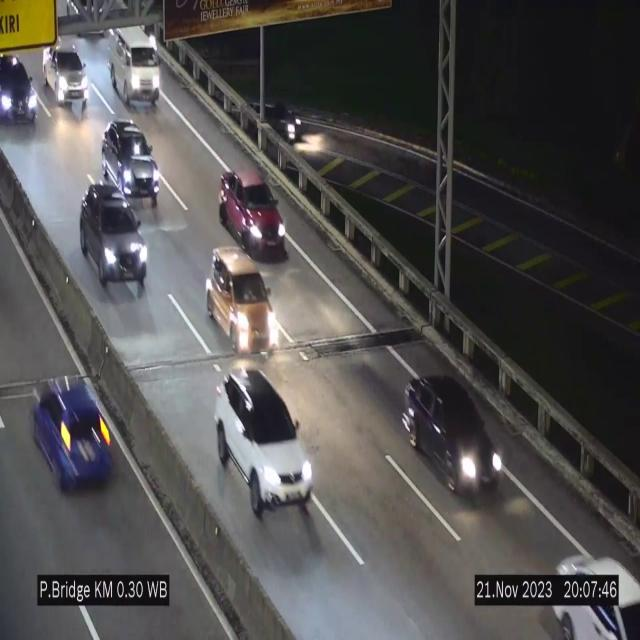Car: (216, 364, 312, 514), (25, 358, 119, 494), (406, 375, 502, 504), (542, 535, 640, 640), (205, 244, 284, 354), (77, 184, 150, 293), (219, 170, 287, 258), (104, 120, 163, 215), (0, 38, 43, 139), (109, 26, 160, 111), (42, 40, 94, 108), (254, 96, 304, 150)
